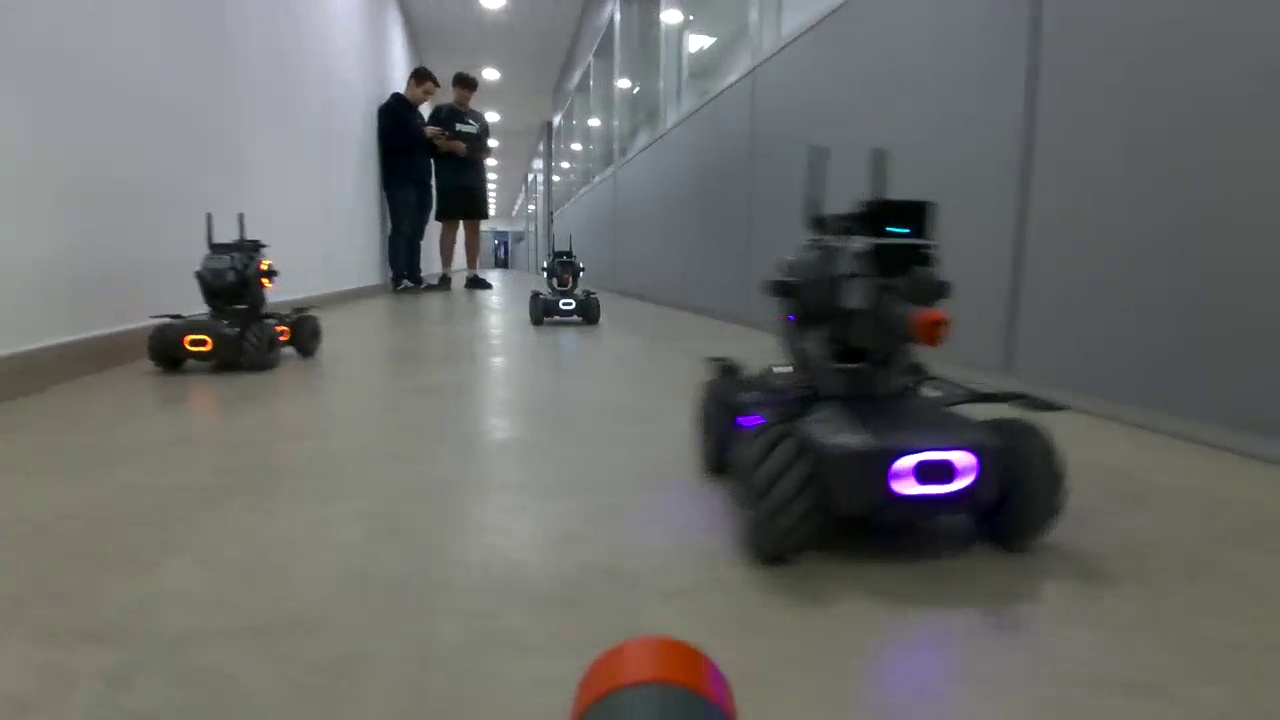robot: (697, 197, 1076, 574), (145, 236, 327, 377), (528, 250, 603, 333)
